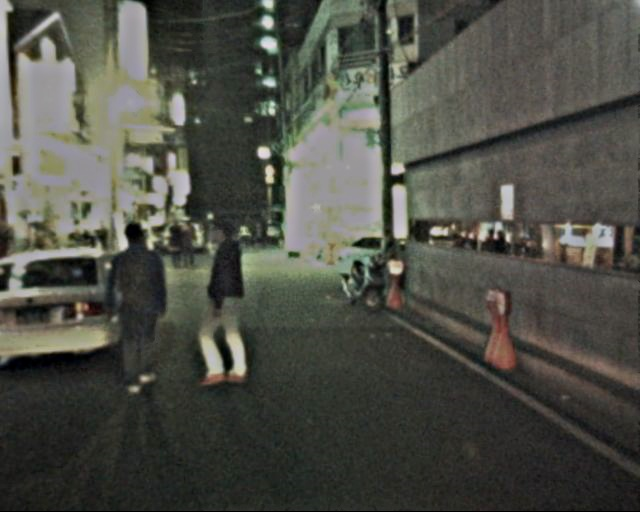person: (101, 220, 175, 390), (190, 217, 261, 387), (173, 222, 201, 266), (237, 219, 270, 252)
